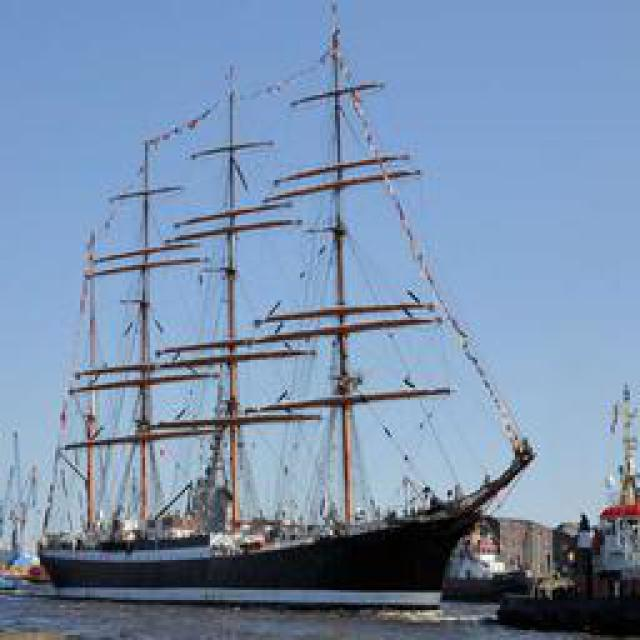Ship: (31, 22, 536, 595)
